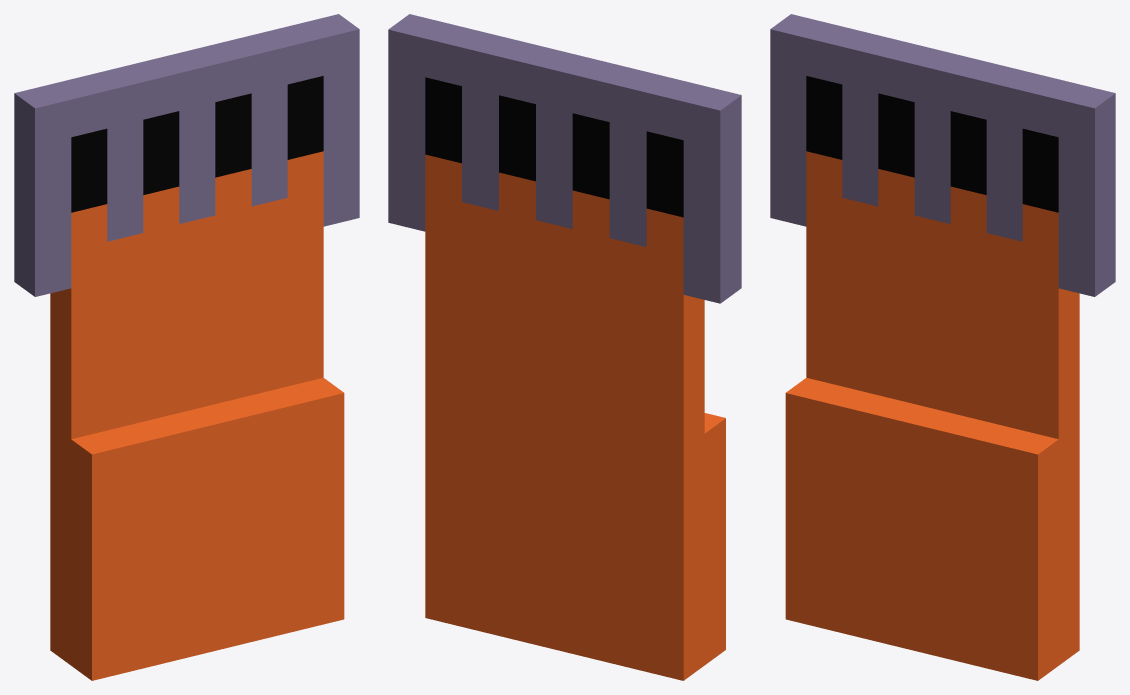
The model's file is wall_grate_a_passing_lava.obj.
3 renders of one model, left to right at view 1: azimuth 30°, elevation 25°; view 2: azimuth 150°, elevation 25°; view 3: azimuth 330°, elevation 25°, orthographic. The views are drawn at different scales.
Size of the model in its own units: 0.9 by 1.5 by 0.2.
1 material, 1 textured.
